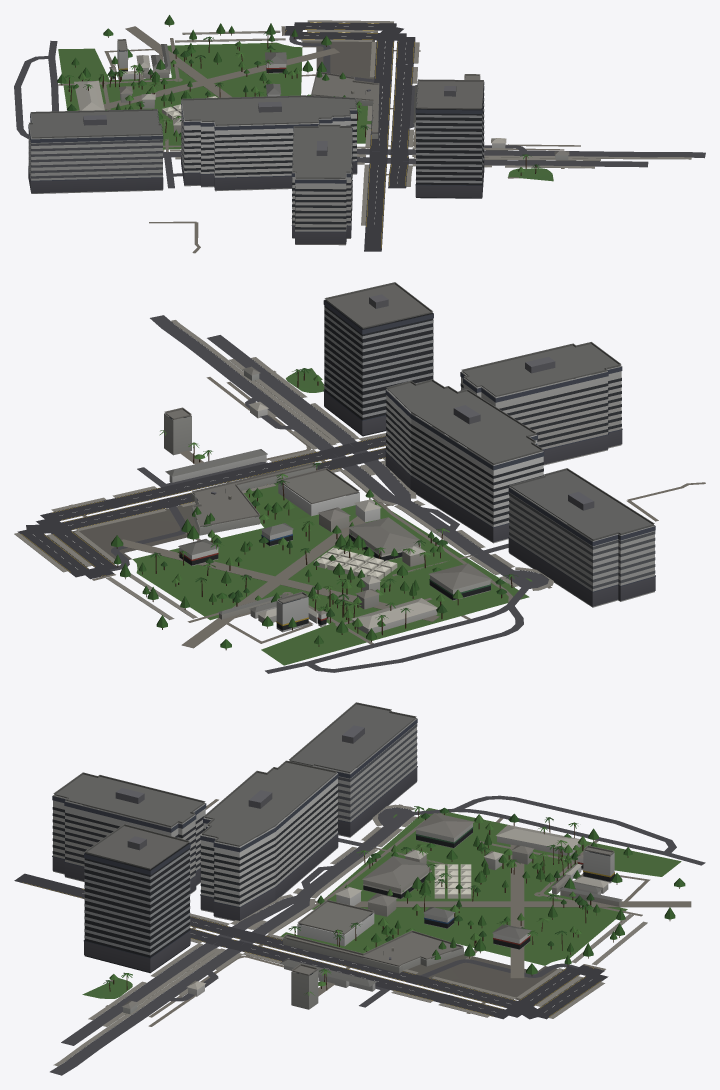
3 renders of one model, top to bottom at view 1: azimuth 30°, elevation 25°; view 2: azimuth 150°, elevation 25°; view 3: azimuth 270°, elevation 25°, orthographic. The views are drawn at different scales.
Visible parts, largest first — view 1: eBloc 2 Tower-col, Garden Bloc-col, eBloc 3 Tower-col, Skyrise 4-col, Roads_Major__r-2c-3, Filinvest Cyberzone Cebu Tower 1-col, Buildings__r-2c-3-col, Roads_Minor__r-2c-3, Sidewalks__r-2c-3-col, Landuse__r-2c-3, Props_Foliage__r-2c-3, Footways__r-2c-3 (+2 smaller); view 2: Garden Bloc-col, eBloc 2 Tower-col, Buildings__r-2c-3-col, eBloc 3 Tower-col, Filinvest Cyberzone Cebu Tower 1-col, Skyrise 4-col, Roads_Minor__r-2c-3, Roads_Major__r-2c-3, Sidewalks__r-2c-3-col, Landuse__r-2c-3, Props_Foliage__r-2c-3, Footways__r-2c-3 (+5 smaller); view 3: Garden Bloc-col, eBloc 2 Tower-col, Buildings__r-2c-3-col, Skyrise 4-col, Roads_Minor__r-2c-3, eBloc 3 Tower-col, Filinvest Cyberzone Cebu Tower 1-col, Roads_Major__r-2c-3, Sidewalks__r-2c-3-col, Landuse__r-2c-3, Props_Foliage__r-2c-3, Footways__r-2c-3 (+5 smaller).
Boxes of the visible parts, left/top/right/bottom form: eBloc 2 Tower-col: left=180, top=95, right=357, bottom=191; Garden Bloc-col: left=57, top=15, right=345, bottom=149; eBloc 3 Tower-col: left=28, top=109, right=163, bottom=193; Skyrise 4-col: left=415, top=79, right=484, bottom=198; Roads_Major__r-2c-3: left=284, top=22, right=415, bottom=251; Filinvest Cyberzone Cebu Tower 1-col: left=291, top=124, right=352, bottom=245; Buildings__r-2c-3-col: left=74, top=39, right=569, bottom=160; Roads_Minor__r-2c-3: left=14, top=35, right=705, bottom=188; Sidewalks__r-2c-3-col: left=163, top=20, right=691, bottom=225; Landuse__r-2c-3: left=179, top=40, right=553, bottom=181; Props_Foliage__r-2c-3: left=65, top=31, right=540, bottom=172; Footways__r-2c-3: left=58, top=26, right=580, bottom=253; Garden Bloc-col: left=111, top=500, right=529, bottom=665; eBloc 2 Tower-col: left=385, top=379, right=544, bottom=543; Buildings__r-2c-3-col: left=164, top=366, right=437, bottom=633; eBloc 3 Tower-col: left=508, top=468, right=655, bottom=607; Filinvest Cyberzone Cebu Tower 1-col: left=460, top=342, right=622, bottom=465; Skyrise 4-col: left=323, top=282, right=433, bottom=436; Roads_Minor__r-2c-3: left=110, top=315, right=548, bottom=673; Roads_Major__r-2c-3: left=17, top=436, right=386, bottom=579; Sidewalks__r-2c-3-col: left=14, top=320, right=553, bottom=619; Landuse__r-2c-3: left=73, top=368, right=532, bottom=581; Props_Foliage__r-2c-3: left=150, top=368, right=518, bottom=627; Footways__r-2c-3: left=69, top=370, right=705, bottom=644; Garden Bloc-col: left=312, top=808, right=691, bottom=978; eBloc 2 Tower-col: left=200, top=760, right=338, bottom=921; Buildings__r-2c-3-col: left=122, top=825, right=622, bottom=1014; Skyrise 4-col: left=83, top=824, right=190, bottom=973; Roads_Minor__r-2c-3: left=50, top=795, right=705, bottom=1075; eBloc 3 Tower-col: left=289, top=702, right=417, bottom=837; Filinvest Cyberzone Cebu Tower 1-col: left=52, top=772, right=206, bottom=893; Roads_Major__r-2c-3: left=14, top=873, right=608, bottom=1019; Sidewalks__r-2c-3-col: left=53, top=804, right=647, bottom=1066; Landuse__r-2c-3: left=82, top=814, right=652, bottom=1000; Props_Foliage__r-2c-3: left=103, top=806, right=594, bottom=995; Footways__r-2c-3: left=105, top=799, right=650, bottom=1026.
Size of the model in its own units: 358 by 59.8 by 338.
